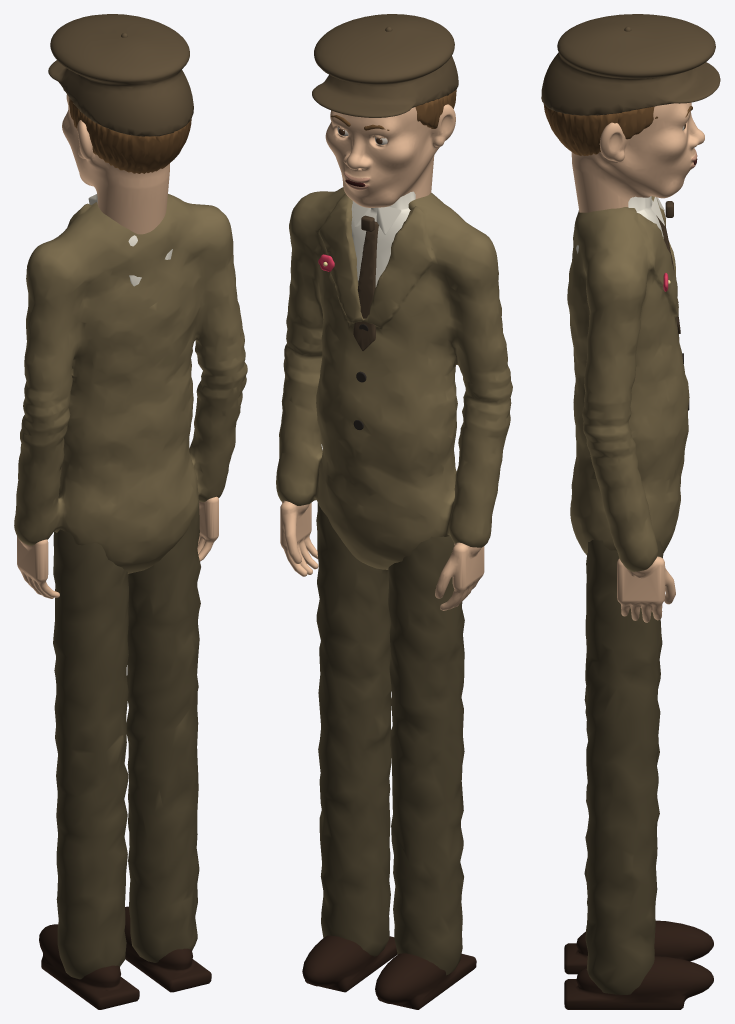
File: thomas.fbx
3 renders of one model, left to right at view 1: azimuth 30°, elevation 25°; view 2: azimuth 150°, elevation 25°; view 3: azimuth 270°, elevation 25°, orthographic.
Visible parts, largest first — view 1: Body, Hat, Head, HandR, HandL; view 2: Body, Hat, Head, HandL, HandR; view 3: Body, Hat, Head, HandL.
Part boxes in pixels (x1,y1,x2,y2): Body: (14, 194, 247, 1009); Hat: (48, 14, 193, 136); Head: (62, 95, 191, 234); HandR: (17, 536, 59, 598); HandL: (197, 496, 218, 561); Body: (276, 187, 512, 1009); Hat: (312, 14, 458, 117); Head: (325, 89, 456, 207); HandL: (280, 500, 318, 576); HandR: (435, 542, 484, 610); Body: (564, 196, 713, 1009); Hat: (541, 14, 720, 115); Head: (543, 102, 704, 212); HandL: (617, 556, 675, 622).
Size of the model in its own units: 0.4292 by 1.76 by 0.2991.
